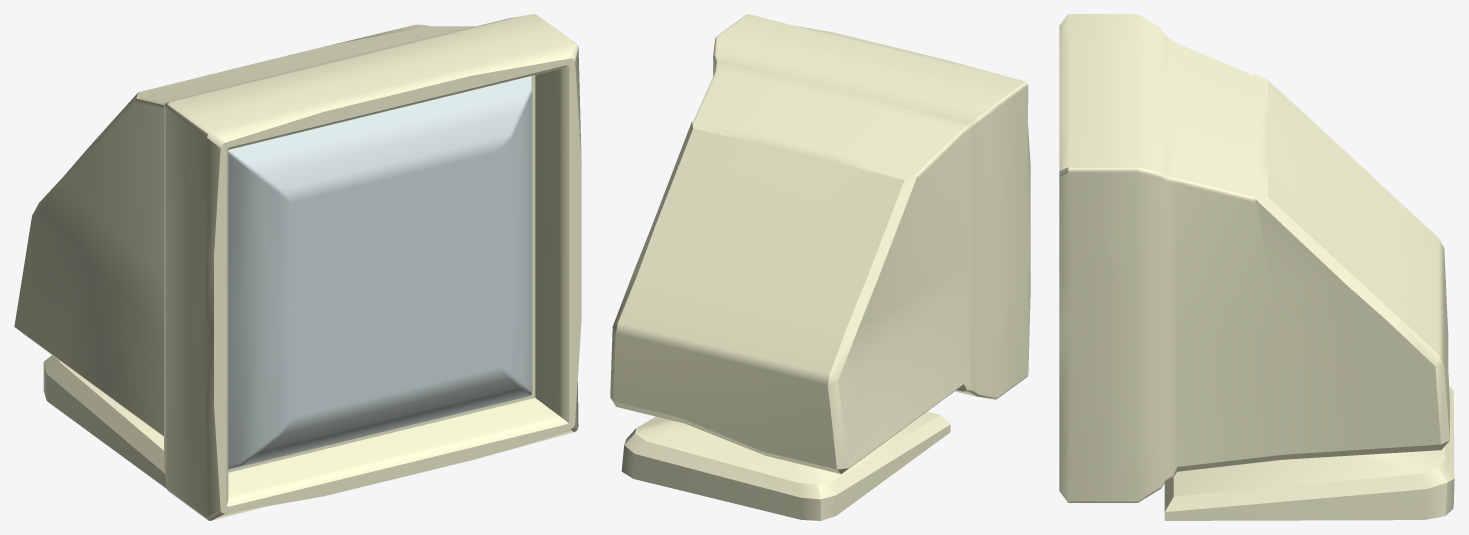
Rendered from S_Computer.fbx.
The picture shows the model from 3 angles, left to right: view 1: azimuth 30°, elevation 25°; view 2: azimuth 150°, elevation 25°; view 3: azimuth 270°, elevation 25°; orthographic projection. The views are drawn at different scales.
Parts seen in each view (by area): view 1: M_Computer; view 2: M_Computer; view 3: M_Computer.
Boxes of the visible parts, x1,y1,x2,y2 form: M_Computer: [14, 14, 581, 520]; M_Computer: [610, 14, 1030, 520]; M_Computer: [1059, 14, 1454, 520].
Bounding box in the file's own units: 1 × 1.11 × 1.07.
